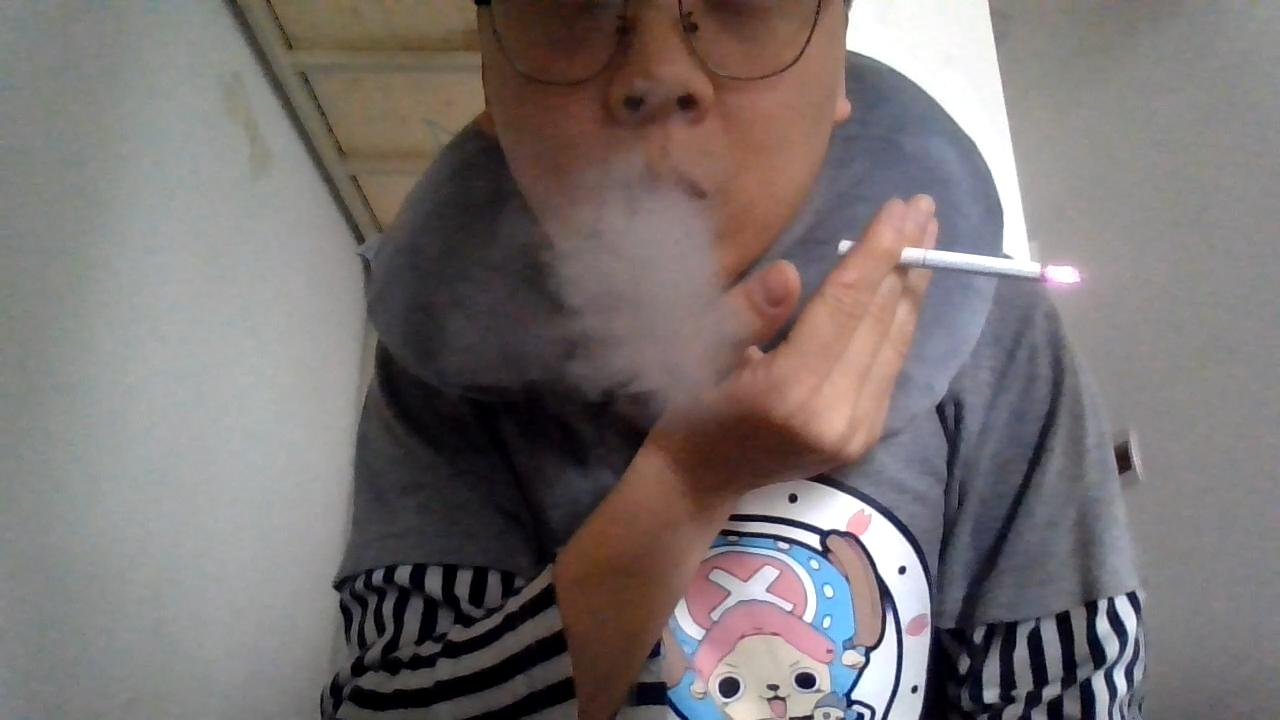yanwu: (433, 158, 725, 396)
